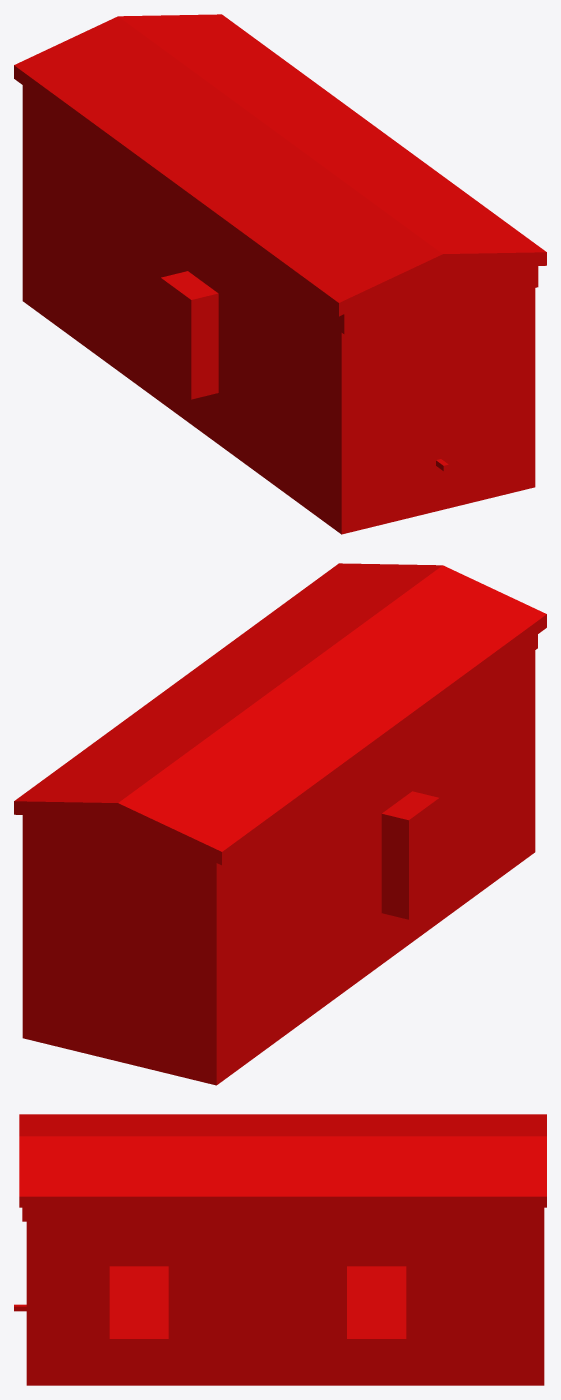
File: SM_Bld_Trailer_01_Collision.fbx
3 views of the same model, one above another, from view 1: azimuth 30°, elevation 25°; view 2: azimuth 150°, elevation 25°; view 3: azimuth 270°, elevation 25° (orthographic). The views are drawn at different scales.
Visible parts, largest first — view 1: SM_Bld_Trailer_01_Collision; view 2: SM_Bld_Trailer_01_Collision; view 3: SM_Bld_Trailer_01_Collision.
Boxes of the visible parts, x1,y1,x2,y2 form: SM_Bld_Trailer_01_Collision: (14,14,546,534); SM_Bld_Trailer_01_Collision: (14,563,546,1085); SM_Bld_Trailer_01_Collision: (14,1114,546,1385).
Size of the model in its own units: 382 by 416 by 953.
